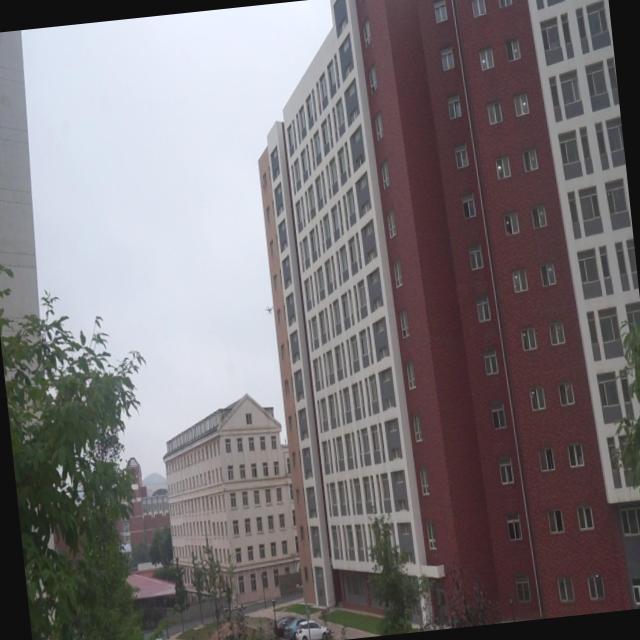drone: (264, 300, 276, 316)
